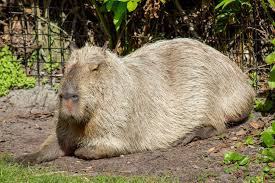capivara: (27, 39, 254, 165)
